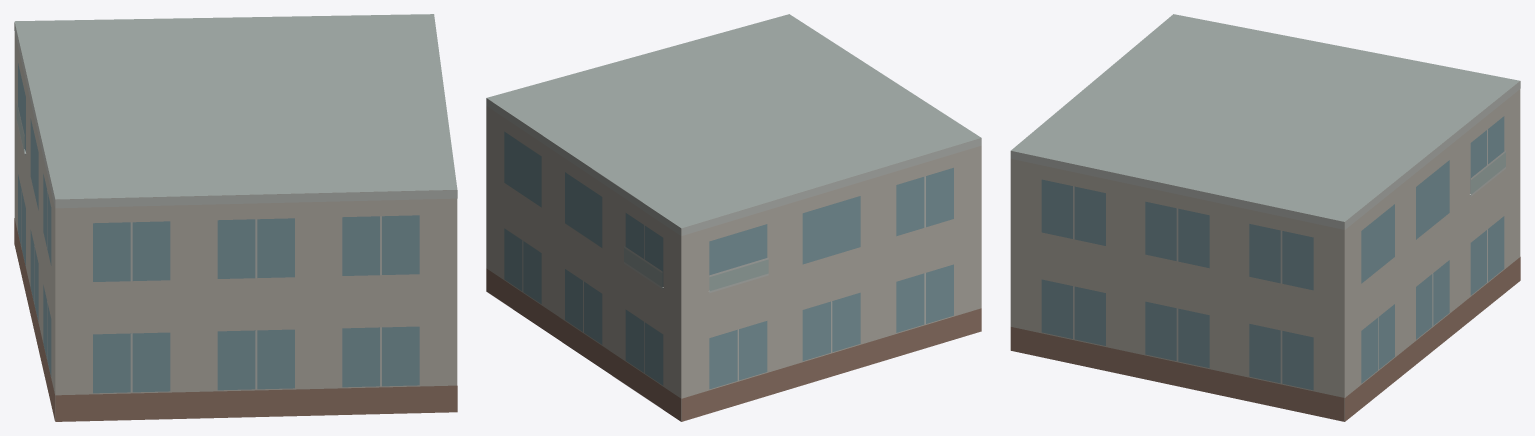
The model's file is survey-upis-32845067.glb.
3 renders of one model, left to right at view 1: azimuth 30°, elevation 25°; view 2: azimuth 150°, elevation 25°; view 3: azimuth 270°, elevation 25°, orthographic. The views are drawn at different scales.
Visible parts, largest first — view 1: survey-upis-32845067.tmp; view 2: survey-upis-32845067.tmp; view 3: survey-upis-32845067.tmp.
Boxes of the visible parts, <box> form: survey-upis-32845067.tmp: <box>14,14,457,421</box>; survey-upis-32845067.tmp: <box>486,14,981,421</box>; survey-upis-32845067.tmp: <box>1010,14,1520,421</box>.
Bounding box in the file's own units: 13.62 × 6.1 × 14.11.
